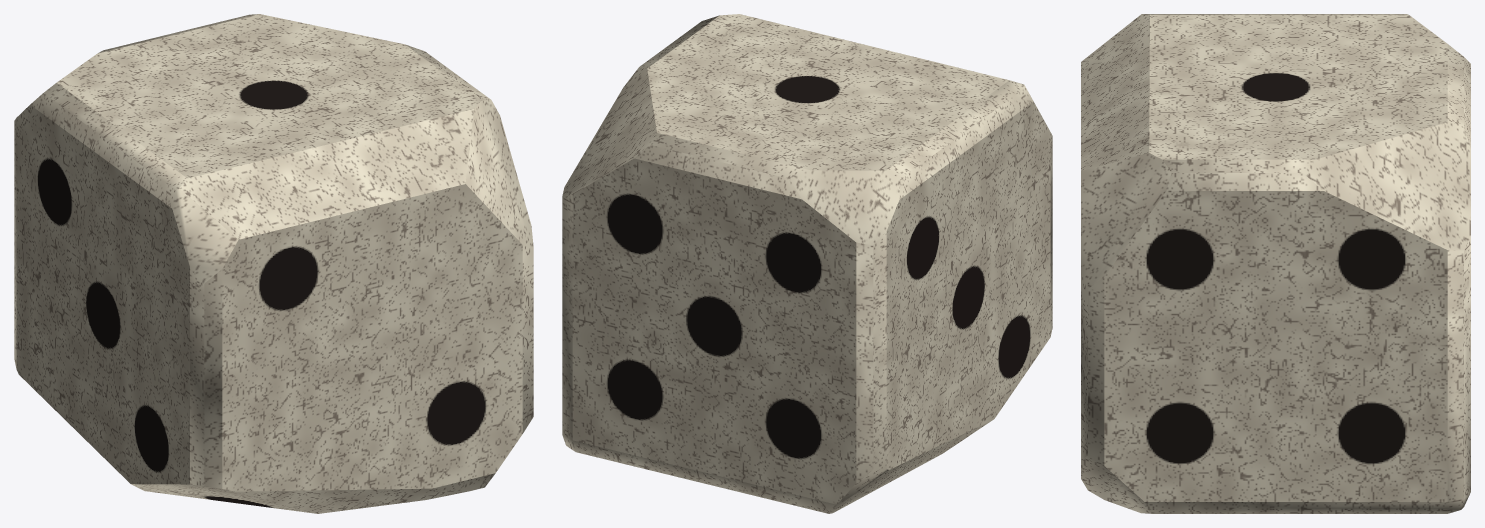
Rendered from Die_Worn.fbx.
3 views of the same model, side by side, from view 1: azimuth 30°, elevation 25°; view 2: azimuth 150°, elevation 25°; view 3: azimuth 270°, elevation 25° (orthographic). The views are drawn at different scales.
Parts seen in each view (by area): view 1: Die_Worn; view 2: Die_Worn; view 3: Die_Worn.
Boxes of the visible parts, <box> form: Die_Worn: <box>14,14,533,513</box>; Die_Worn: <box>562,14,1052,513</box>; Die_Worn: <box>1081,14,1470,513</box>.
Bounding box in the file's own units: 0.3 × 0.3 × 0.3.
1 material, 1 textured.
